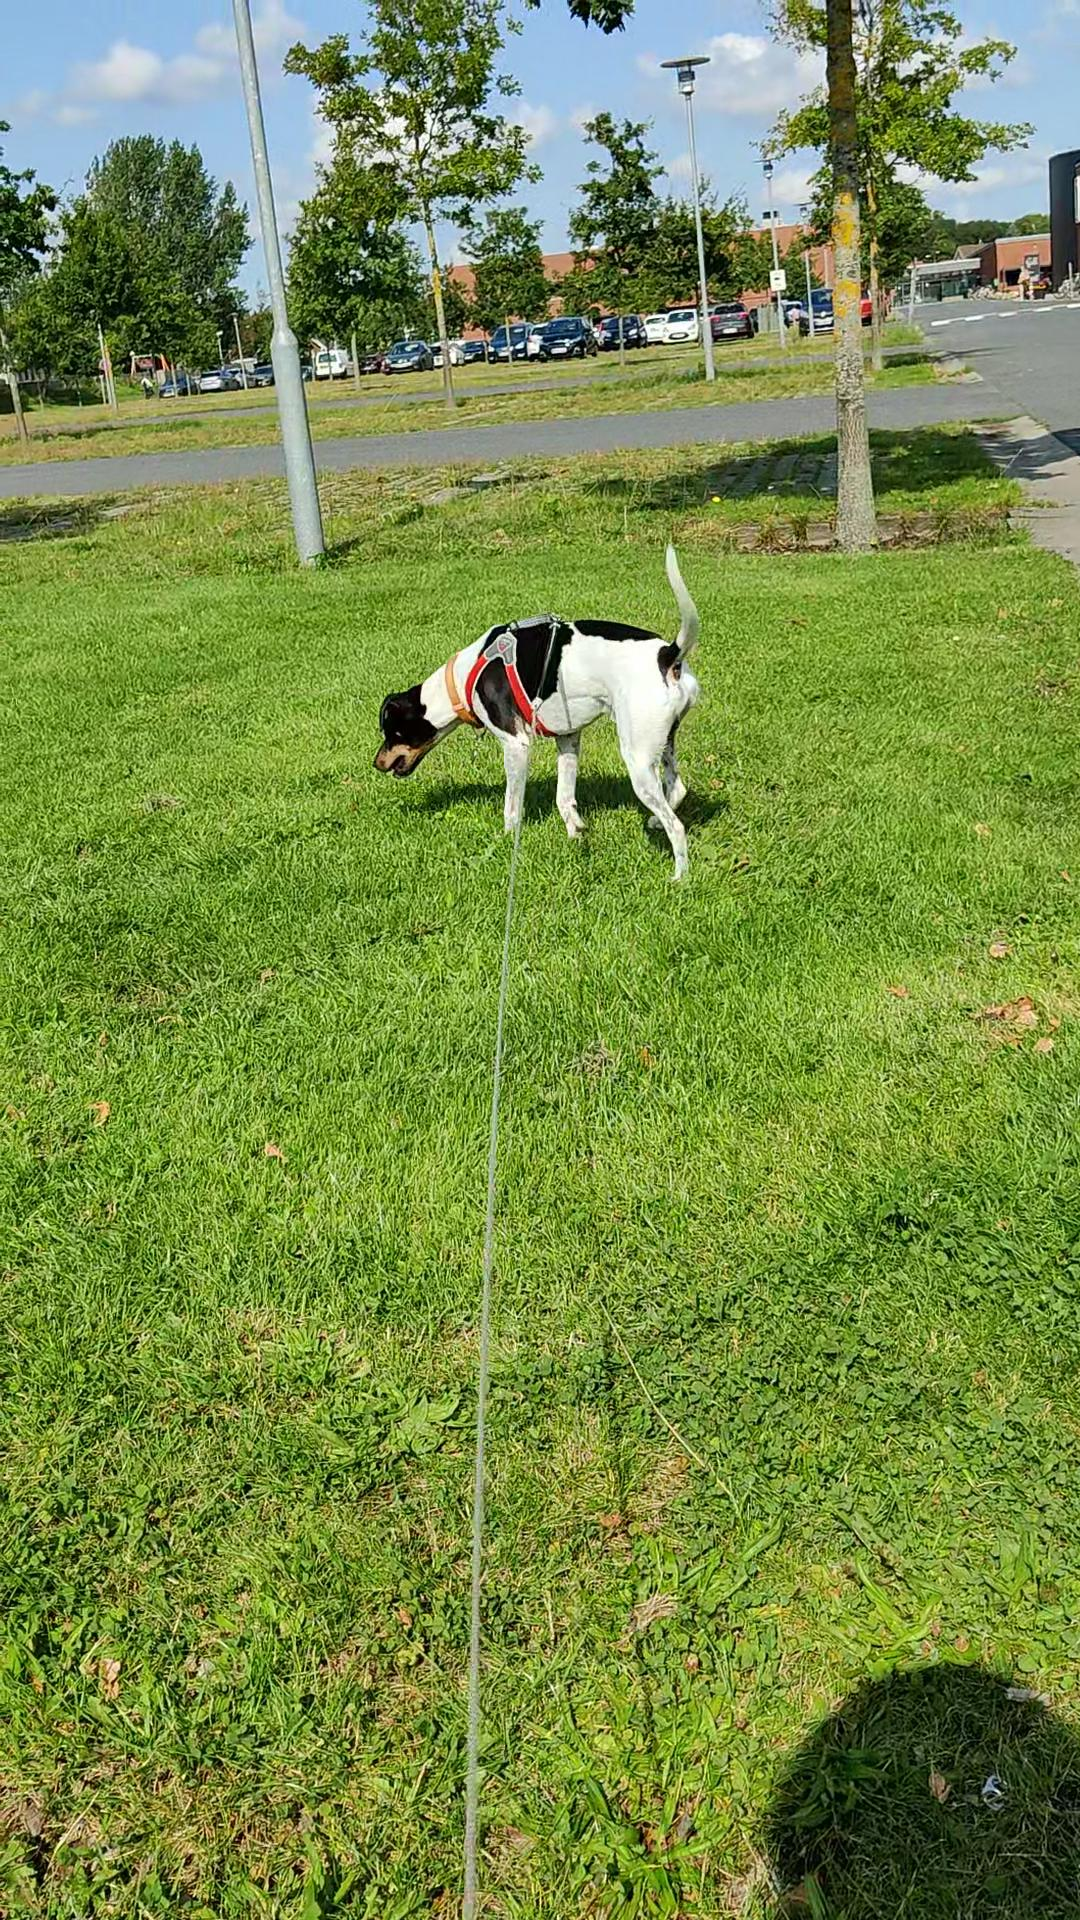Dog: (367, 541, 703, 886)
